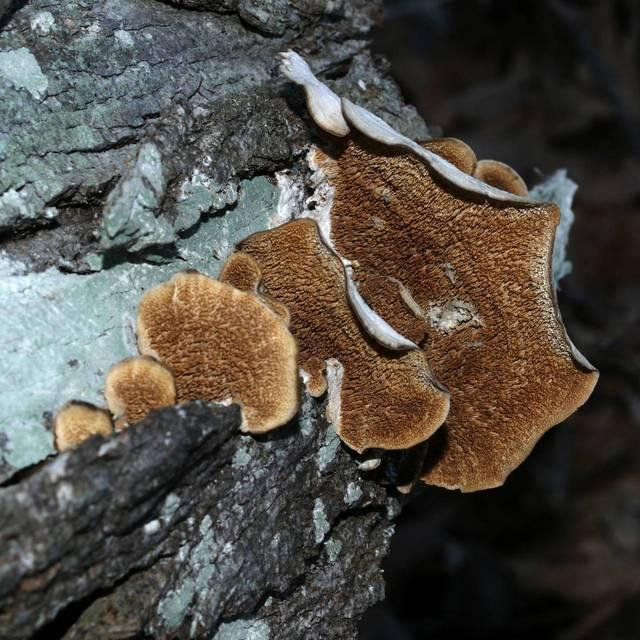Non-edible Mushroom: (53, 47, 600, 495), (133, 266, 300, 435)
